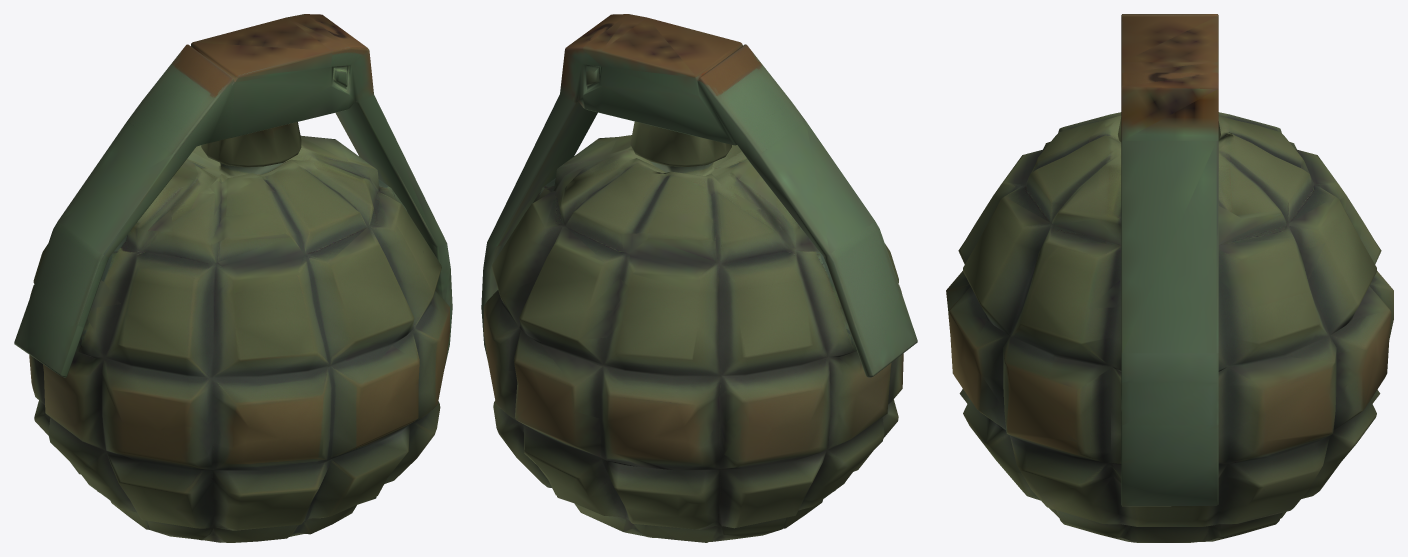
File: frag_grenade.glb
3 views of the same model, side by side, from view 1: azimuth 30°, elevation 25°; view 2: azimuth 150°, elevation 25°; view 3: azimuth 270°, elevation 25° (orthographic). The views are drawn at different scales.
Size of the model in its own units: 1.66 by 1.91 by 1.56.
Materials: 1 (1 with a texture image).
